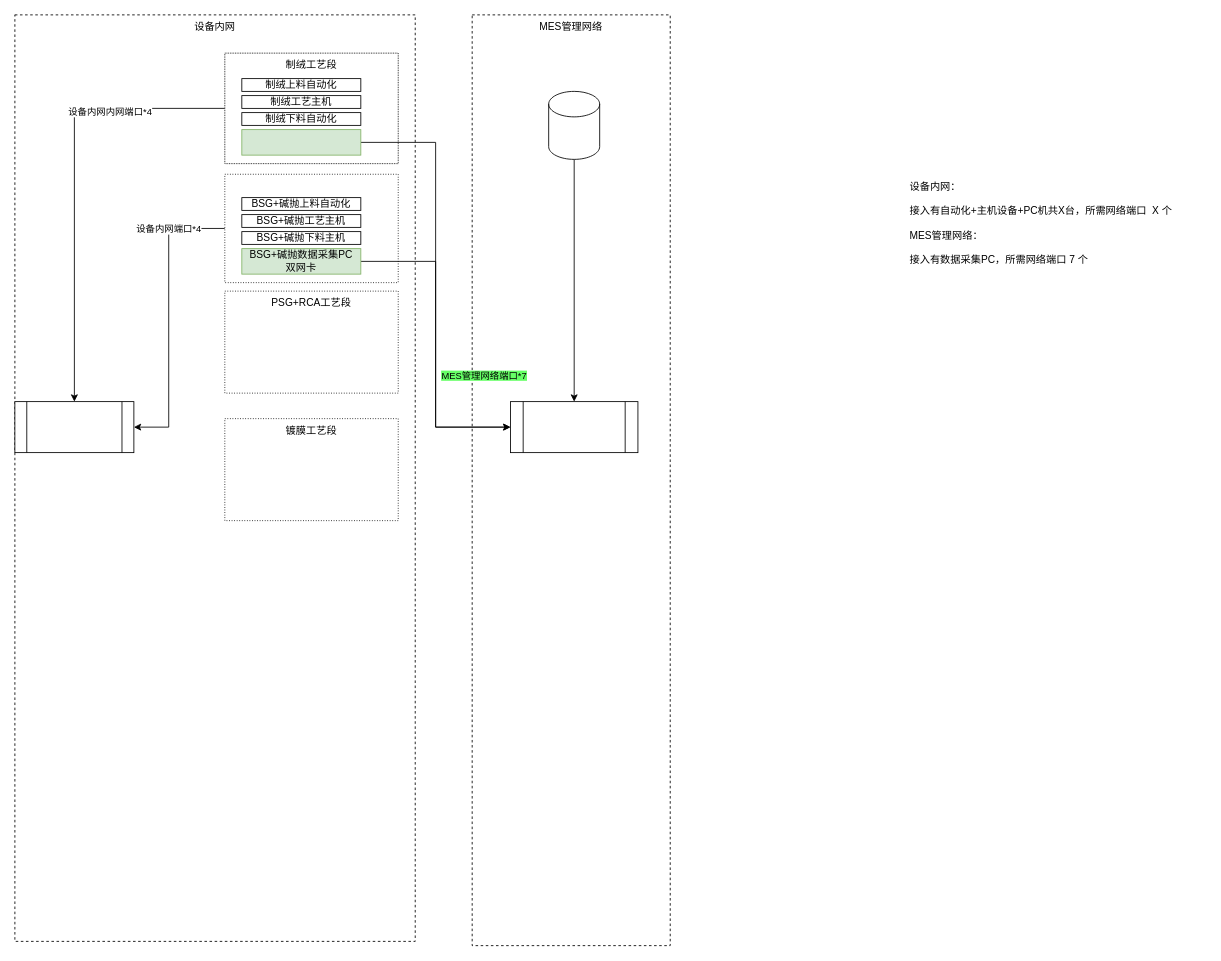
This 1221x961 diagram has some shape labels left out. Each missing label, with the box of its shape:
BSG+碱抛工艺段: (224, 173, 398, 283)
MES管理网络交换机: (510, 401, 638, 453)
MES系统服务器: (548, 91, 600, 159)
制绒工艺段数据采集PC 双网卡: (241, 129, 361, 155)
设备内网交换机: (14, 401, 134, 453)
